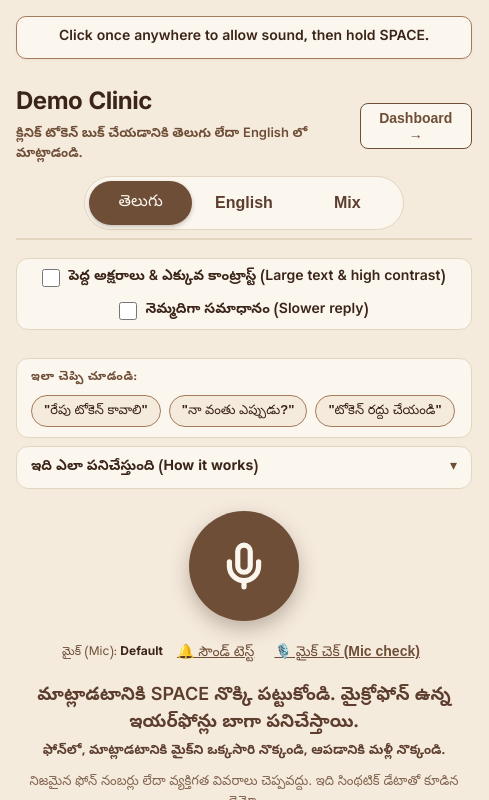
Test: Patient App Component Tests (Vitest + RTL) › 1. Language switch toggles between Telugu, English, and Mix with correct UI text
// Switch to English
Click the button "English": point(244, 203) [192,181,296,225]
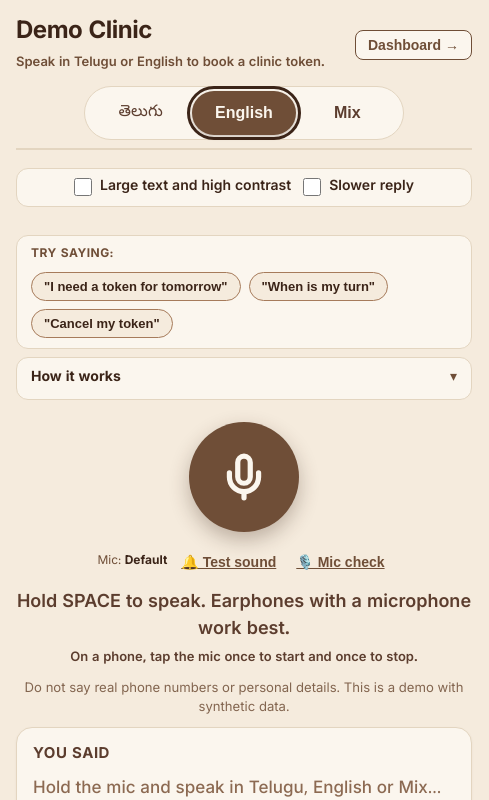
Result: the heading "You said" is shown at [33,745,110,765]
// Switch to Mix
Click the button "Mix": point(347, 112) [296,90,399,134]
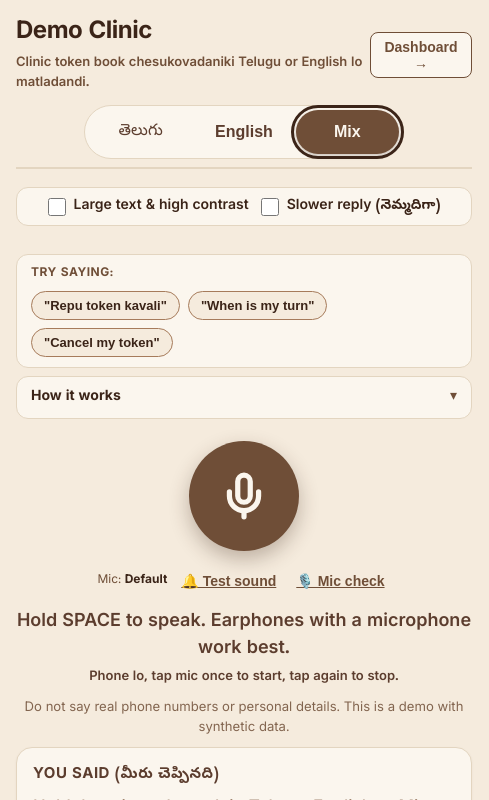
Result: the heading "You said (మీరు చెప్పినది)" is shown at [33,765,220,785]
